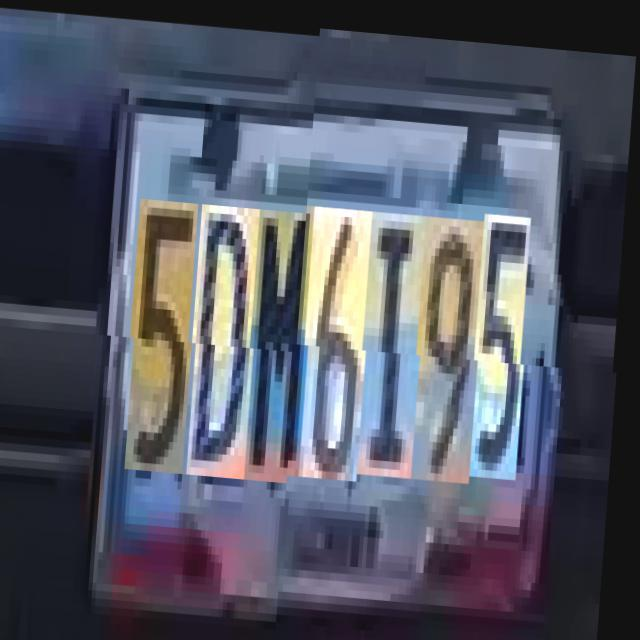5: (132, 196, 206, 470), (476, 212, 538, 478)
6: (305, 208, 379, 482)
9: (418, 216, 490, 482)
D: (193, 200, 267, 474)
I: (363, 212, 432, 478)
M: (251, 204, 321, 478)
